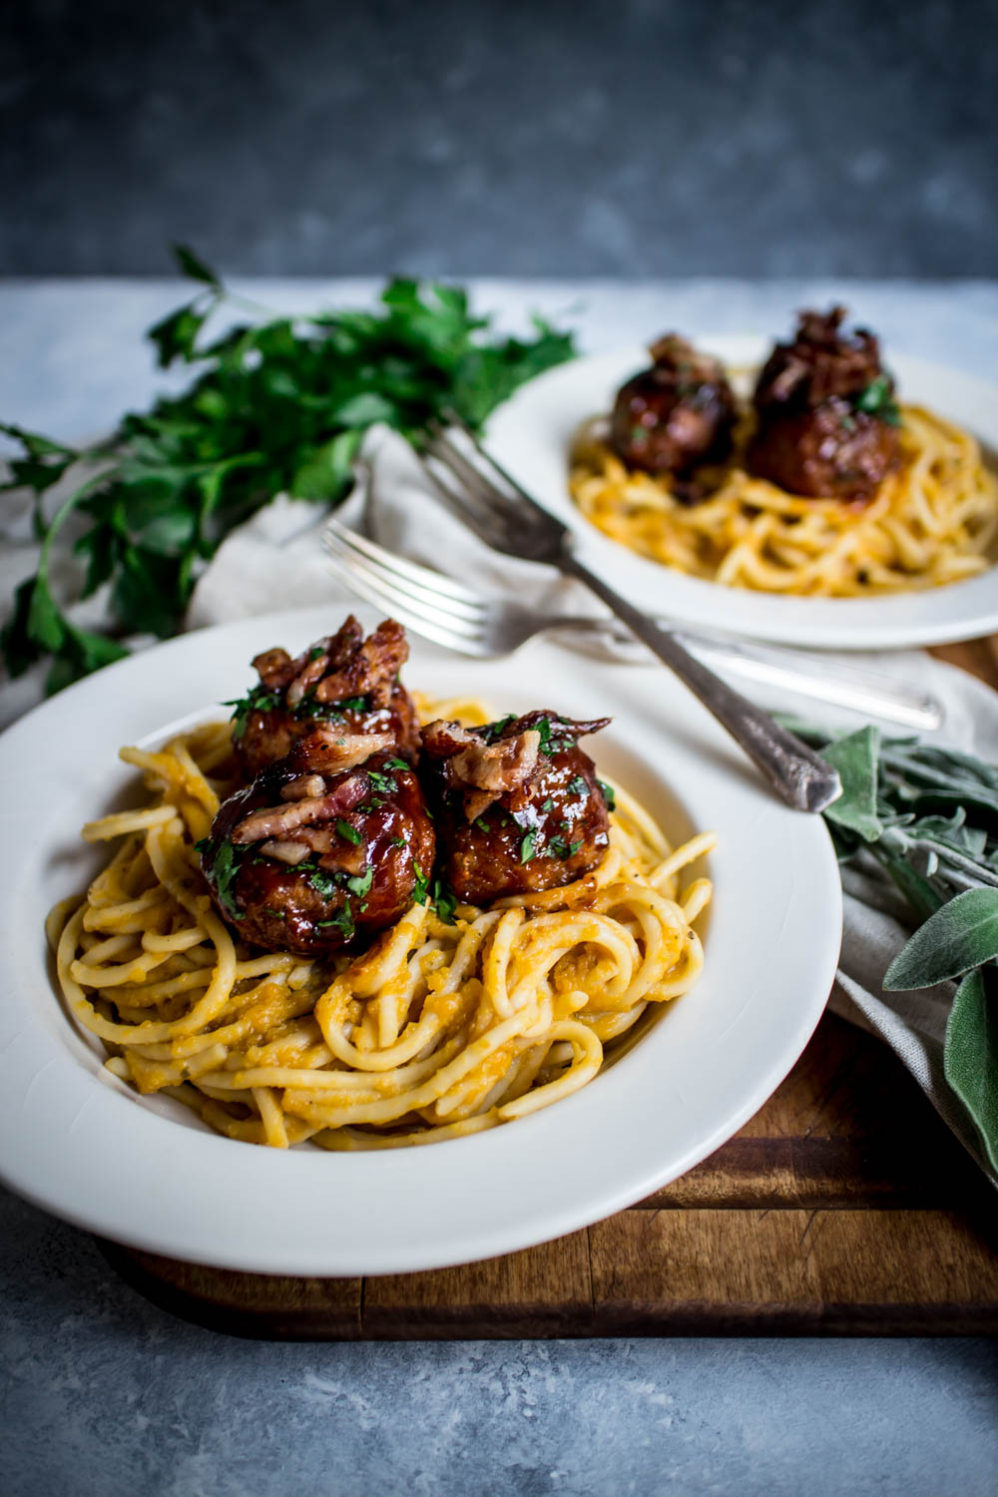meatballs: (427, 725, 601, 886), (239, 786, 418, 933), (235, 644, 418, 774), (608, 352, 753, 471), (762, 363, 899, 479)
plain spaghetti: (61, 898, 687, 1131), (624, 488, 992, 605)
